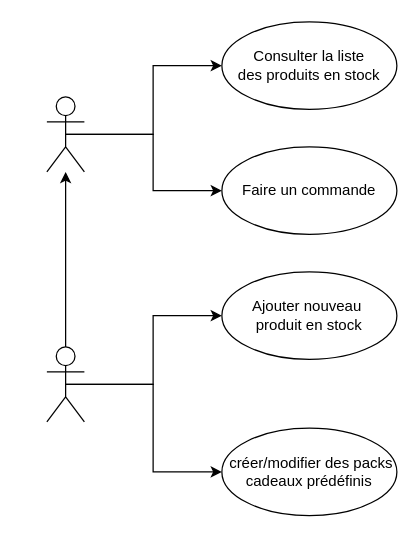
Some shapes in this 419 by 538 pixel diagram are drawn without their labels. The centre of each missing label's shape, as x and y in pixels:
Client: point (65, 134)
Responsable: point (65, 384)
